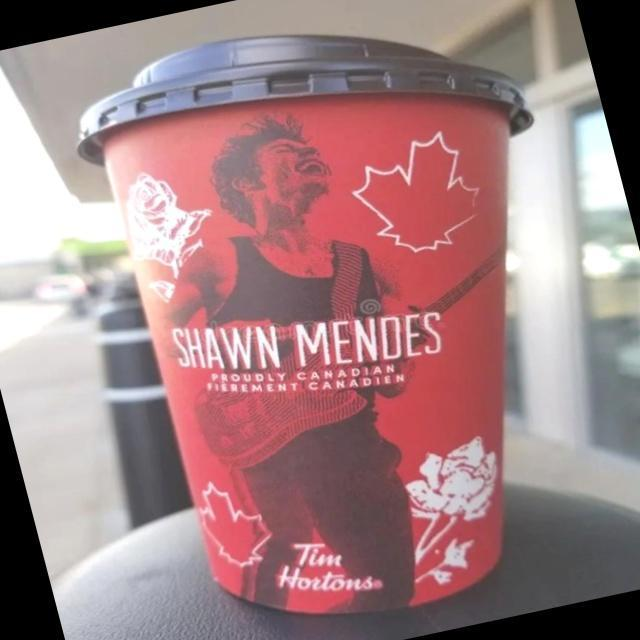timmies: (75, 30, 543, 621)
